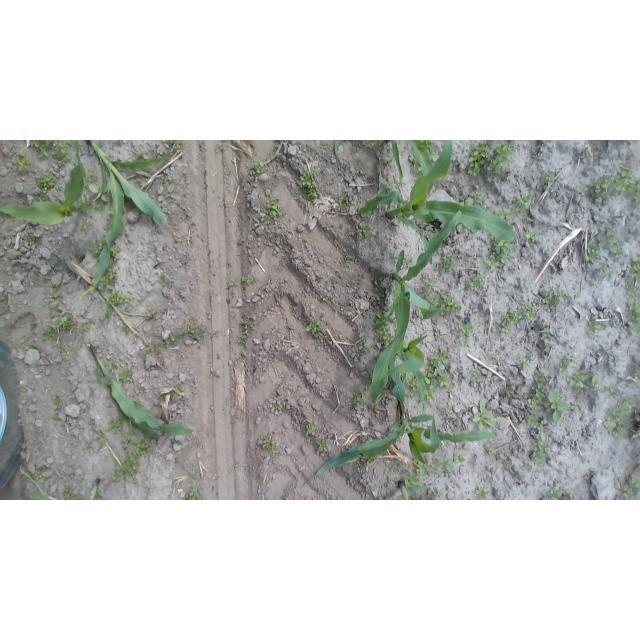Maize: (370, 210, 462, 414), (361, 141, 516, 248), (80, 141, 176, 298), (313, 413, 495, 488), (89, 345, 194, 437), (1, 142, 116, 225), (376, 333, 429, 434), (27, 479, 105, 500), (79, 283, 116, 326), (410, 140, 434, 178), (394, 480, 430, 500), (390, 141, 404, 183), (333, 141, 343, 156)
Weeds: (42, 318, 79, 342), (44, 283, 70, 316), (468, 144, 490, 178), (548, 389, 569, 422), (426, 352, 448, 383), (610, 169, 635, 195), (473, 399, 493, 429), (118, 453, 138, 481), (185, 319, 206, 345), (497, 142, 518, 168), (300, 172, 318, 199), (610, 399, 635, 418), (89, 183, 112, 203), (34, 172, 56, 192), (589, 373, 606, 398), (515, 194, 532, 217), (623, 474, 638, 500), (441, 296, 460, 316), (469, 270, 486, 292), (52, 142, 69, 162), (493, 240, 515, 255), (596, 262, 612, 282), (531, 382, 546, 403), (570, 372, 589, 388), (405, 468, 424, 484), (405, 374, 417, 399), (604, 421, 624, 436), (559, 353, 573, 374), (268, 200, 285, 217), (532, 445, 549, 462), (371, 311, 389, 327), (440, 255, 456, 273), (148, 338, 165, 354), (591, 179, 607, 196), (586, 243, 600, 262), (254, 213, 271, 228), (439, 456, 454, 472), (30, 140, 50, 152), (306, 323, 322, 338), (468, 368, 482, 385), (106, 419, 124, 432), (522, 410, 537, 425), (136, 438, 151, 453), (632, 179, 640, 207), (485, 443, 499, 459), (425, 277, 436, 297), (548, 491, 572, 500), (90, 239, 105, 253), (625, 283, 640, 297), (169, 141, 183, 156), (436, 373, 450, 388), (16, 157, 30, 172), (109, 292, 128, 303), (629, 296, 638, 319), (34, 466, 51, 478), (487, 255, 499, 272), (339, 256, 354, 269), (88, 415, 100, 431), (518, 356, 530, 372), (526, 229, 542, 241), (186, 489, 205, 499), (526, 305, 537, 322), (63, 486, 76, 500), (35, 192, 49, 205), (157, 273, 169, 288), (426, 385, 437, 401), (84, 172, 100, 183), (506, 311, 522, 322), (79, 218, 92, 231), (317, 439, 329, 453), (112, 246, 123, 261), (241, 319, 252, 334), (460, 324, 473, 336), (501, 254, 514, 266), (405, 253, 416, 267), (119, 370, 133, 381), (606, 228, 616, 243), (632, 257, 638, 281), (24, 340, 36, 352), (168, 175, 176, 193), (380, 330, 392, 342), (81, 319, 93, 331), (476, 487, 488, 499), (27, 232, 38, 245), (80, 402, 93, 413), (504, 385, 515, 398), (383, 281, 394, 294), (253, 162, 264, 175), (589, 320, 600, 333), (208, 329, 222, 339), (242, 275, 254, 286), (145, 308, 156, 320), (371, 141, 383, 152), (424, 140, 435, 152), (554, 289, 566, 300), (455, 454, 467, 465), (97, 433, 108, 445), (168, 334, 181, 344), (545, 173, 555, 186), (173, 383, 184, 394), (355, 396, 366, 407), (543, 293, 554, 304), (121, 437, 132, 448), (458, 338, 470, 348), (389, 252, 399, 264), (603, 346, 616, 355), (325, 276, 339, 284), (131, 152, 145, 160), (263, 435, 271, 449), (52, 415, 62, 426), (359, 224, 369, 235), (503, 459, 513, 470), (475, 192, 486, 202), (501, 208, 512, 218), (270, 403, 282, 412), (371, 278, 380, 290), (427, 151, 439, 160), (361, 212, 374, 220), (579, 186, 589, 196), (100, 277, 110, 287), (501, 323, 510, 334), (109, 362, 118, 373), (86, 440, 95, 451), (442, 405, 451, 416), (384, 152, 393, 163), (108, 267, 116, 279), (340, 198, 348, 210), (320, 293, 329, 303), (361, 309, 370, 319), (413, 163, 422, 173), (571, 401, 581, 410), (110, 140, 125, 146), (614, 246, 623, 256), (630, 325, 639, 335), (110, 473, 118, 484), (490, 159, 498, 170), (70, 236, 81, 244), (188, 477, 197, 486), (492, 352, 501, 361), (270, 287, 279, 296), (369, 403, 377, 413), (438, 330, 446, 340), (306, 423, 314, 433), (589, 201, 596, 212), (524, 465, 535, 472), (120, 325, 129, 333), (238, 338, 247, 346), (536, 370, 544, 379), (272, 168, 280, 177), (607, 155, 615, 164), (369, 229, 378, 237), (370, 296, 380, 303), (634, 364, 640, 375), (322, 332, 330, 340), (230, 278, 238, 286), (430, 298, 439, 305), (270, 447, 279, 454), (54, 403, 63, 410), (460, 200, 470, 206), (98, 313, 106, 320), (78, 474, 86, 481), (284, 408, 291, 416), (40, 276, 48, 283), (611, 385, 618, 393), (535, 422, 542, 430), (635, 157, 640, 168), (363, 348, 370, 355), (30, 267, 38, 273), (488, 210, 496, 215), (54, 395, 63, 399), (499, 169, 505, 175), (485, 140, 493, 144)
